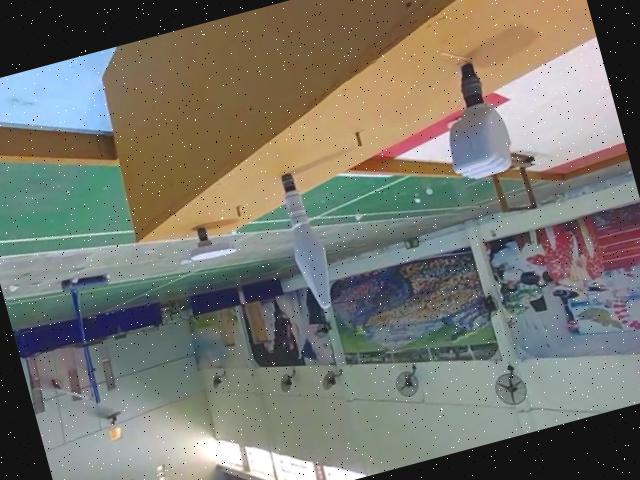Fist: (427, 53, 522, 186)
Hand: (182, 221, 237, 267)
Sph: (271, 164, 344, 314)
